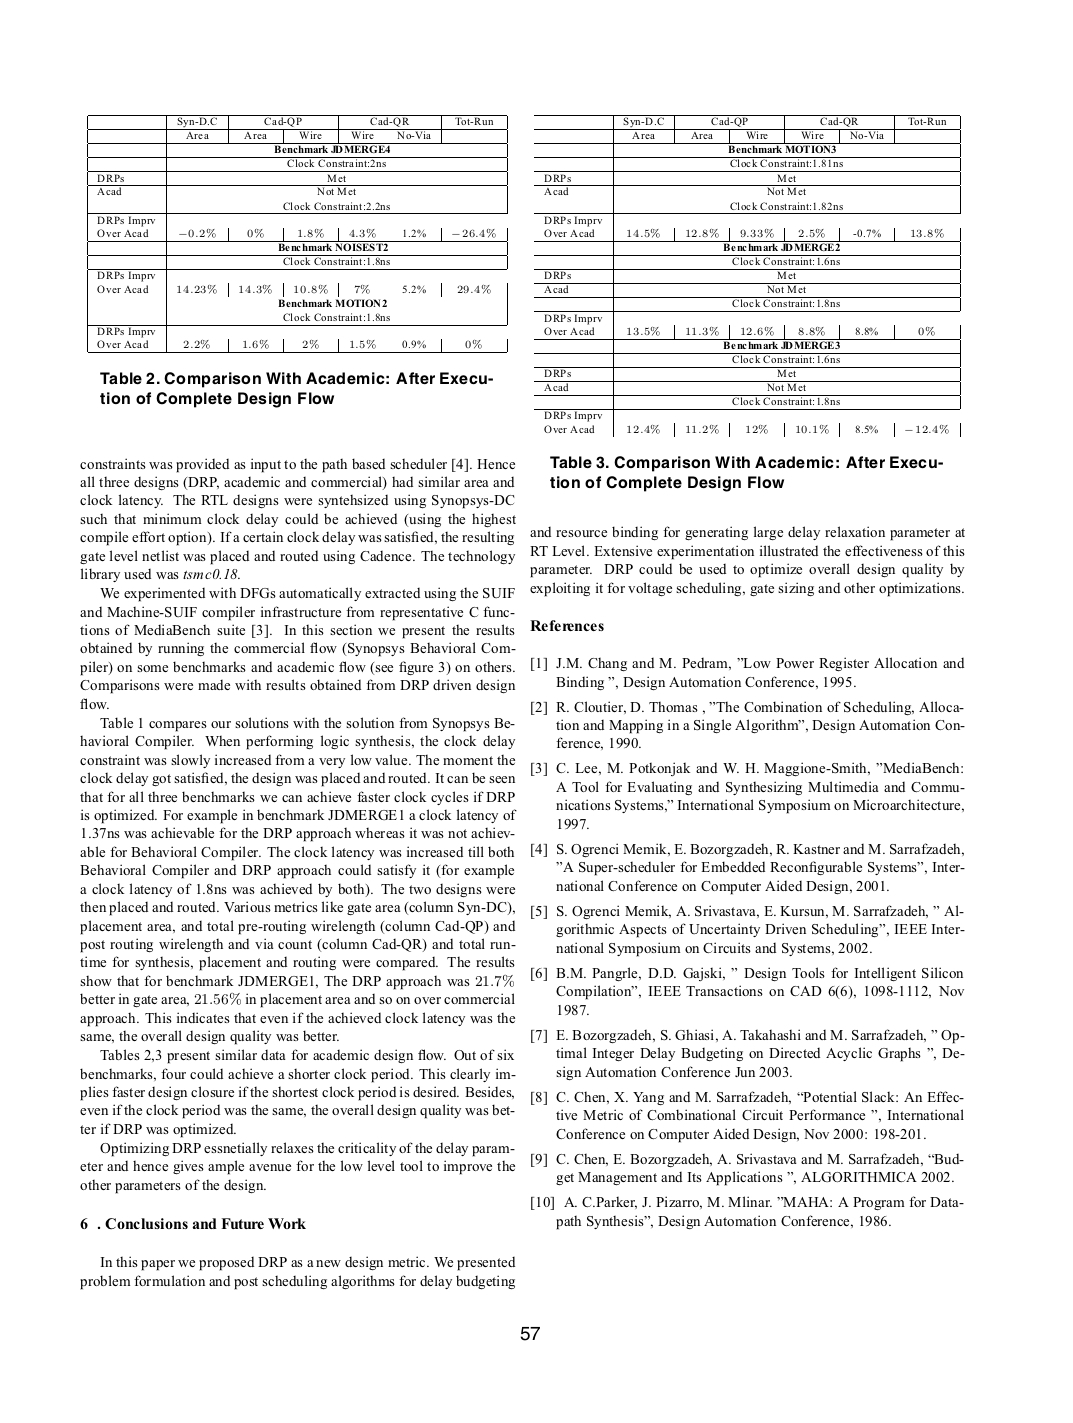Table: (534, 114, 960, 437), (87, 114, 507, 353)
